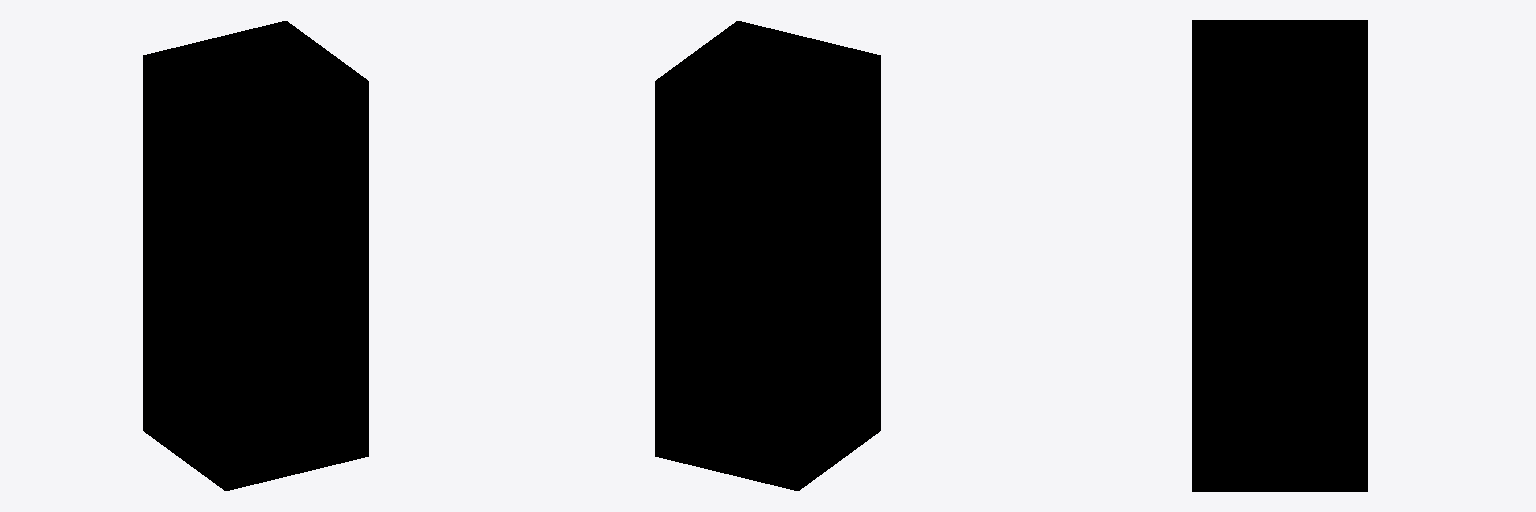
URDF robot description (wrench_apply):
<robot name="wrench_apply" xmlns:xacro="http://www.ros.org/wiki/xacro" >

    <link name="cyang88">
        <inertial>
            <origin xyz="0.0 0.0 0.0" rpy="0.0 0.0 0.0"/>
            <mass value="1"/>
            <inertia ixx="1" ixy="0.0" ixz="0.0" iyy="1" iyz="0.0" izz="1"/>
        </inertial>
        <visual>
            <origin xyz="0.0 0.0 -0.5" rpy="0.0 0.0 0.0"/>
            <geometry>
                <box size="0.4 0.4 1"/>
            </geometry>
            <material name="white">
                <color rgba="0.0 0.0 0.0 1.0"/>
            </material>
        </visual>
        <collision>
            <origin xyz="0.0 0.0 -0.5" rpy="0.0 0.0 0.0"/>
            <geometry>
                <box size="0.4 0.4 1"/>
            </geometry>
        </collision>
    </link>

    <gazebo>
        <plugin name="wrench_apply" filename="libwrench_apply_plugin.so">
            <topic> /topicname </topic>
        </plugin>
    </gazebo>

</robot>

--- Render facts (derived) ---
The picture shows the robot from 3 angles, left to right: view 1: azimuth 30°, elevation 25°; view 2: azimuth 150°, elevation 25°; view 3: azimuth 270°, elevation 25°; orthographic projection.
Robot: wrench_apply — 1 links, 0 joints (none); root link cyang88; default pose: all joints at 0.
Visible links, largest first — view 1: cyang88; view 2: cyang88; view 3: cyang88.
Boxes of the visible links, bbox=[...] form: cyang88: bbox=[143, 21, 368, 490]; cyang88: bbox=[655, 21, 880, 490]; cyang88: bbox=[1192, 20, 1367, 491].
Size in the robot's own frame: 0.4 by 0.4 by 1 metres.
Geometry: primitives only (box / cylinder / sphere), no mesh files.
